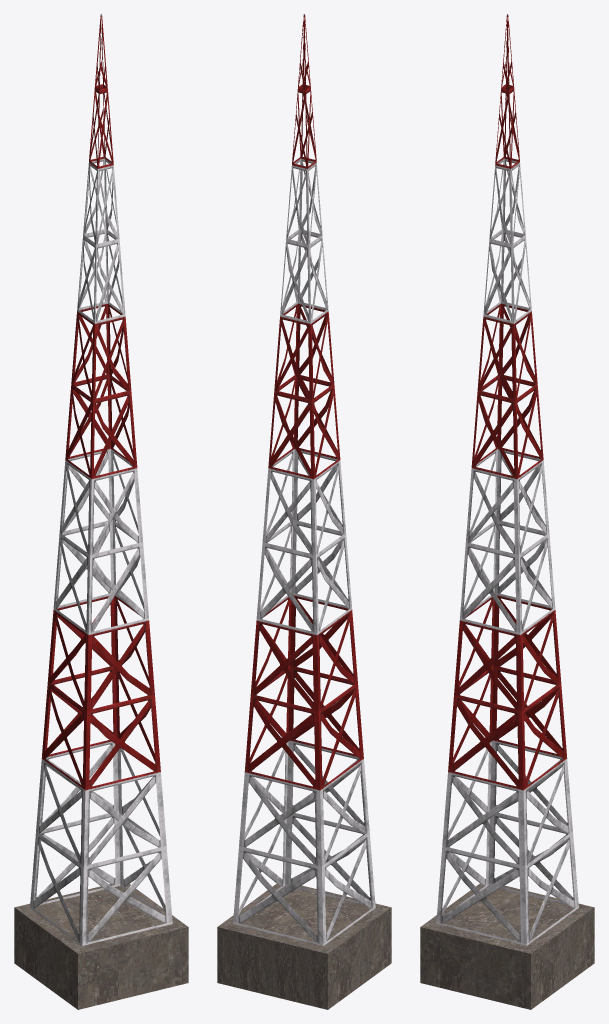
Rendered from COMT1Xa.glb.
3 renders of one model, left to right at view 1: azimuth 30°, elevation 25°; view 2: azimuth 150°, elevation 25°; view 3: azimuth 330°, elevation 25°, orthographic.
Visible parts, largest first — view 1: _COMT1Xa; view 2: _COMT1Xa; view 3: _COMT1Xa.
Boxes of the visible parts, x1,y1,x2,y2 form: _COMT1Xa: [14, 14, 188, 1009]; _COMT1Xa: [217, 14, 391, 1009]; _COMT1Xa: [420, 14, 594, 1009].
Size of the model in its own units: 5.58 by 46.3 by 5.57.
2 materials, 2 textured.
